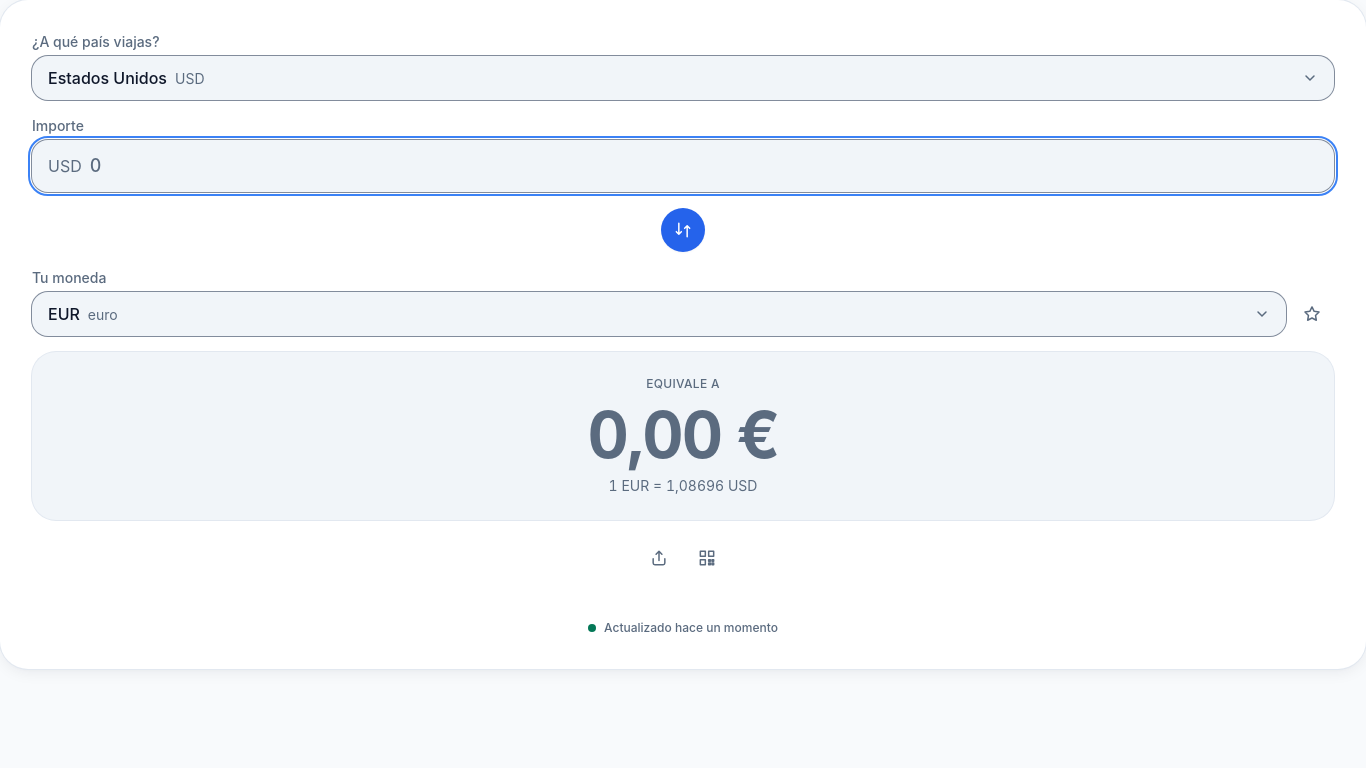
Test case: Converter — home currency persistence (ADR-005) › persists the home currency when it changes
Click the button named "Tu moneda".
click(64, 314)  # box x1=32 y1=292 x2=1286 y2=336
(page scrolled)
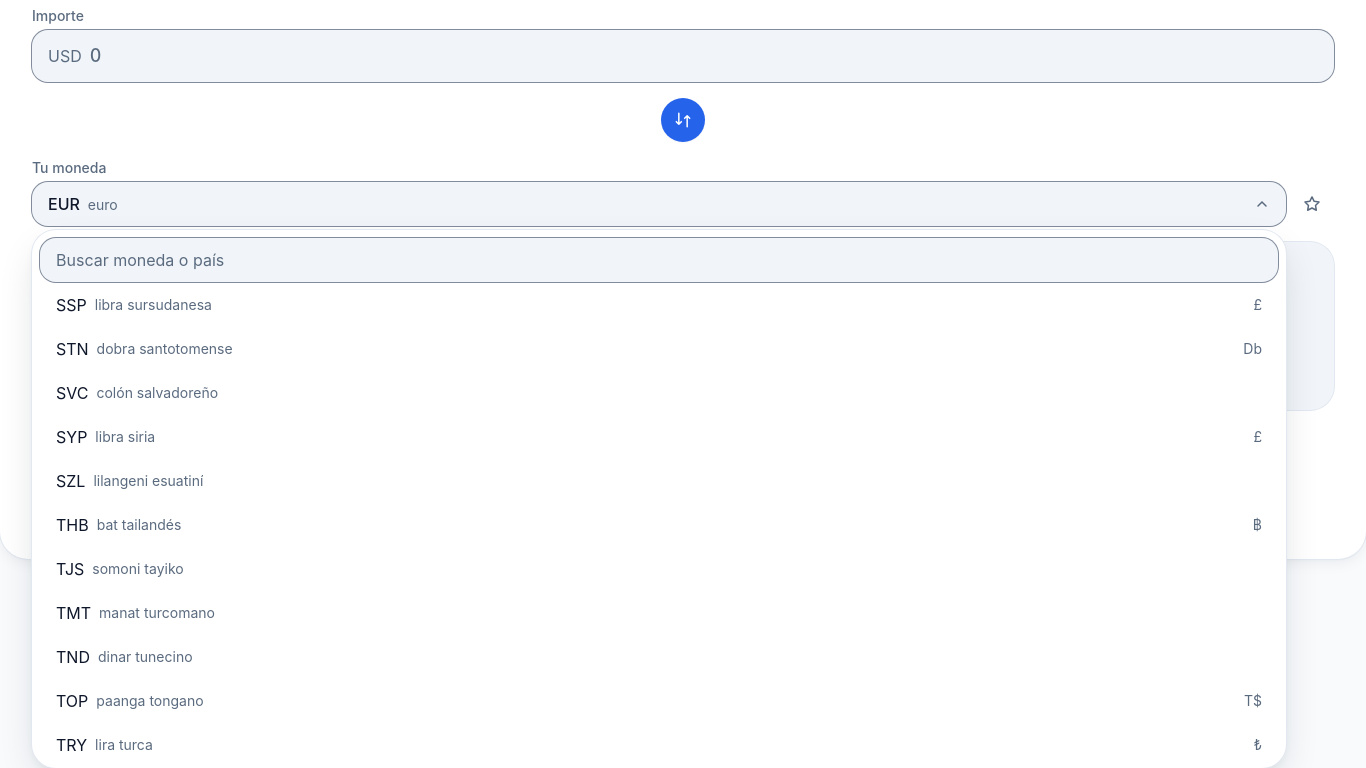
Click the option "THB bat tailandés ฿".
click(72, 525)  # box x1=56 y1=515 x2=1262 y2=535
(page scrolled)
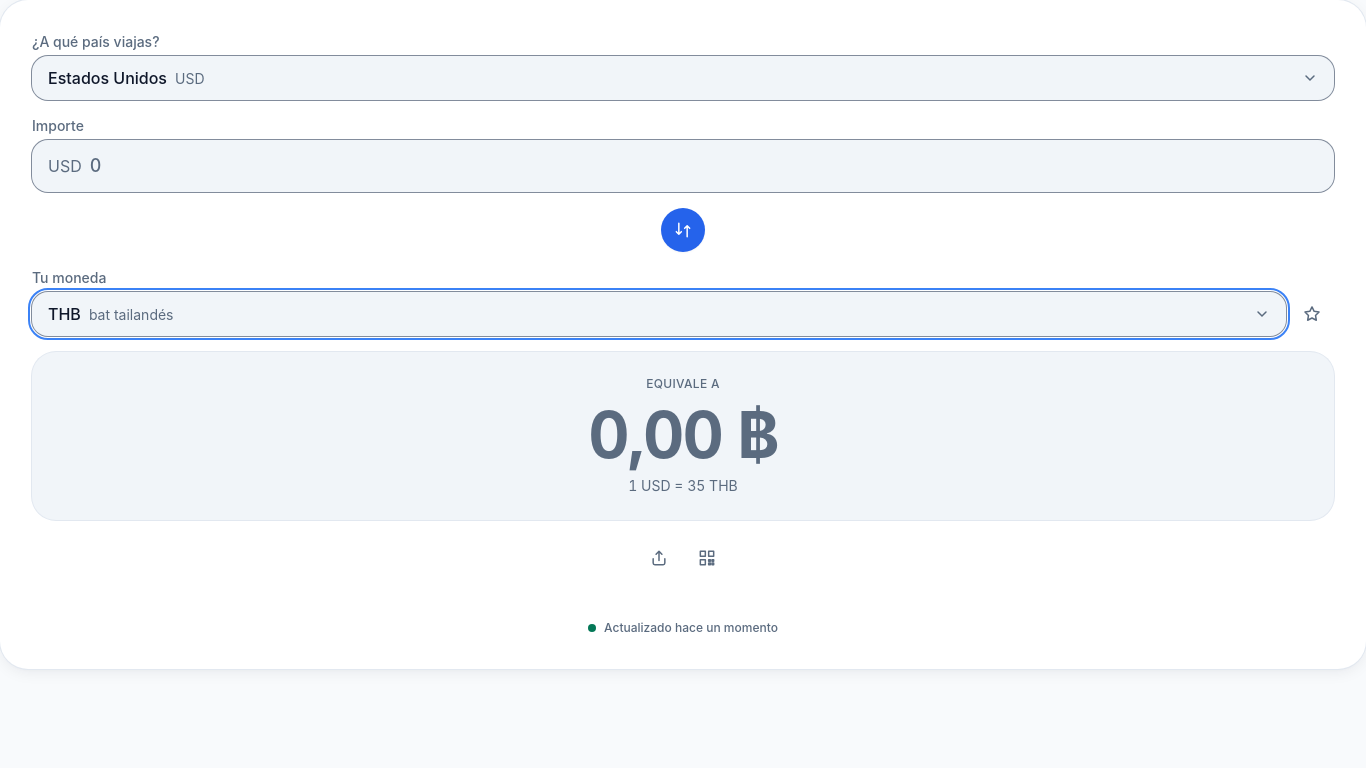
Check: the text "THB" is shown, box x1=48 y1=302 x2=81 y2=326
